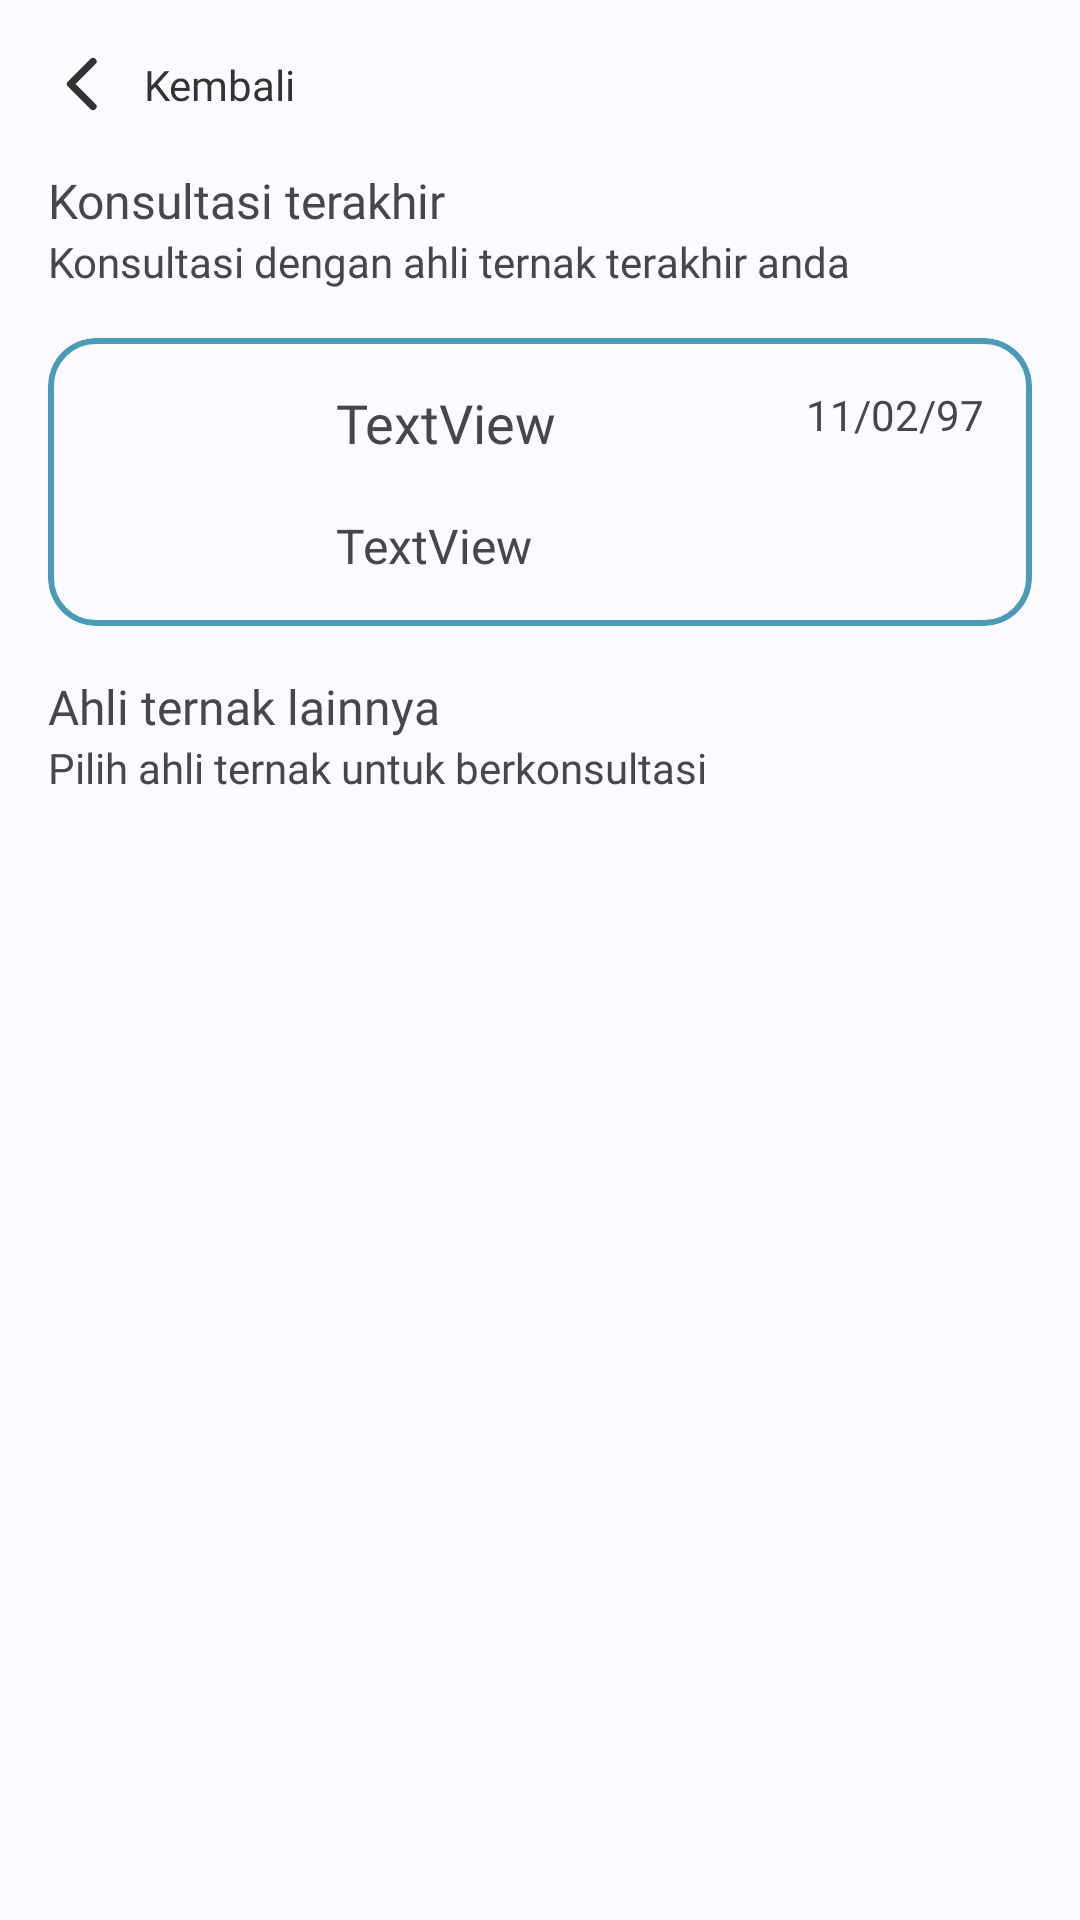

Named icons in this screenshot (1080px x 1920px) and their centers, [x,y]:
caretleft: [81,84]
